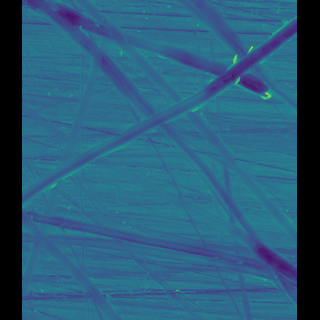Loch: (142, 110, 277, 311), (43, 0, 257, 104), (41, 150, 107, 320)
